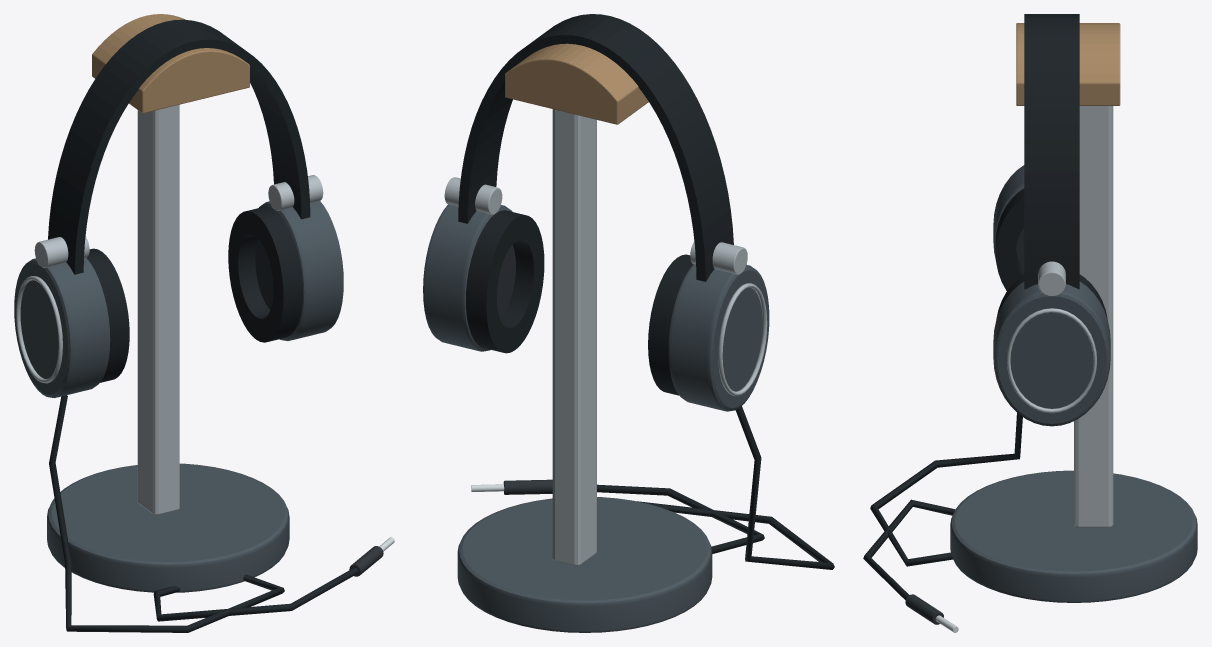
File: city-headphones-on-stand.glb
The picture shows the model from 3 angles, left to right: view 1: azimuth 30°, elevation 25°; view 2: azimuth 150°, elevation 25°; view 3: azimuth 270°, elevation 25°; orthographic projection. The views are drawn at different scales.
Visible parts, largest first — view 1: Assembly | Dark slate equipment housing, Assembly | Soft black grip and cable, Assembly | Satin support metal, Assembly | Warm stand cradle, Assembly | Graphite cloth and trim; view 2: Assembly | Dark slate equipment housing, Assembly | Soft black grip and cable, Assembly | Satin support metal, Assembly | Warm stand cradle, Assembly | Graphite cloth and trim; view 3: Assembly | Dark slate equipment housing, Assembly | Soft black grip and cable, Assembly | Satin support metal, Assembly | Warm stand cradle, Assembly | Graphite cloth and trim.
Part boxes in pixels (<box>): Assembly | Dark slate equipment housing: <box>14,201,343,592</box>; Assembly | Soft black grip and cable: <box>48,19,358,632</box>; Assembly | Satin support metal: <box>16,104,323,514</box>; Assembly | Warm stand cradle: <box>92,14,249,113</box>; Assembly | Graphite cloth and trim: <box>255,239,383,576</box>; Assembly | Dark slate equipment housing: <box>423,204,769,632</box>; Assembly | Soft black grip and cable: <box>458,14,834,569</box>; Assembly | Satin support metal: <box>444,109,767,565</box>; Assembly | Warm stand cradle: <box>505,43,648,124</box>; Assembly | Graphite cloth and trim: <box>497,245,552,494</box>; Assembly | Dark slate equipment housing: <box>950,165,1197,602</box>; Assembly | Soft black grip and cable: <box>863,14,1107,599</box>; Assembly | Satin support metal: <box>1007,106,1113,527</box>; Assembly | Warm stand cradle: <box>1016,23,1120,105</box>; Assembly | Graphite cloth and trim: <box>905,227,1024,624</box>.
Bounding box in the file's own units: 0.3437 × 0.509 × 0.2892.
